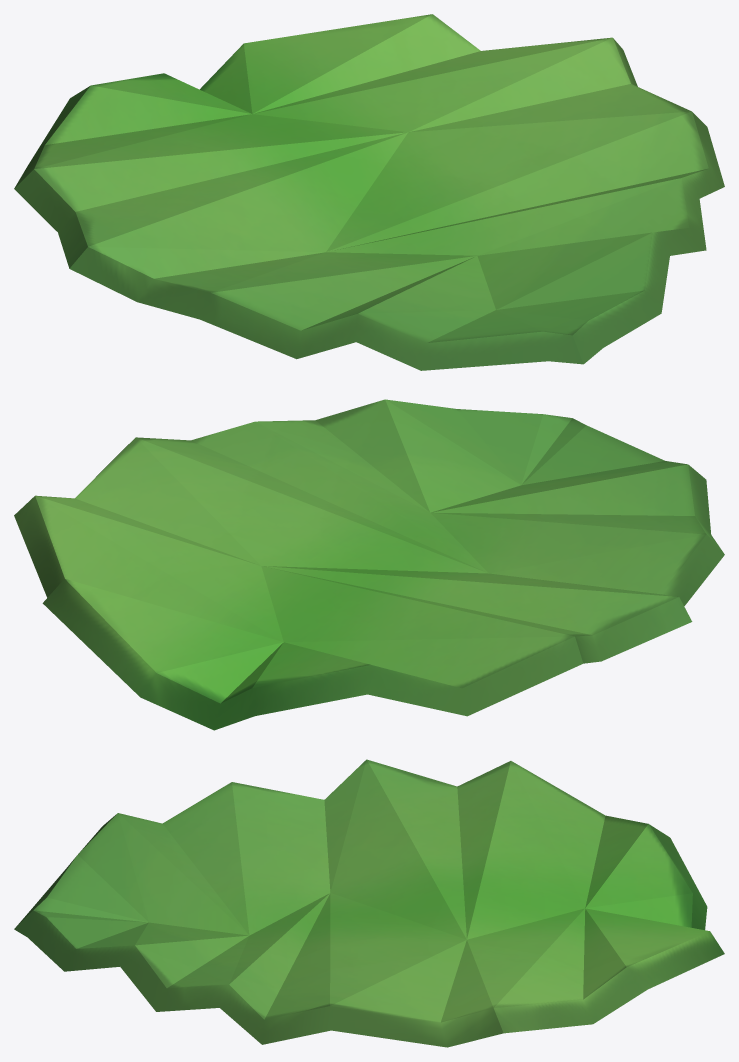
File: food_slice_lettuce.FBX
3 views of the same model, one above another, from view 1: azimuth 30°, elevation 25°; view 2: azimuth 150°, elevation 25°; view 3: azimuth 270°, elevation 25° (orthographic). The views are drawn at different scales.
Visible parts, largest first — view 1: food_slice_lettuce; view 2: food_slice_lettuce; view 3: food_slice_lettuce.
Boxes of the visible parts, x1,y1,x2,y2 form: food_slice_lettuce: (14, 14, 724, 370); food_slice_lettuce: (14, 399, 724, 730); food_slice_lettuce: (14, 759, 724, 1047).
Size of the model in its own units: 157 by 19.94 by 173.
